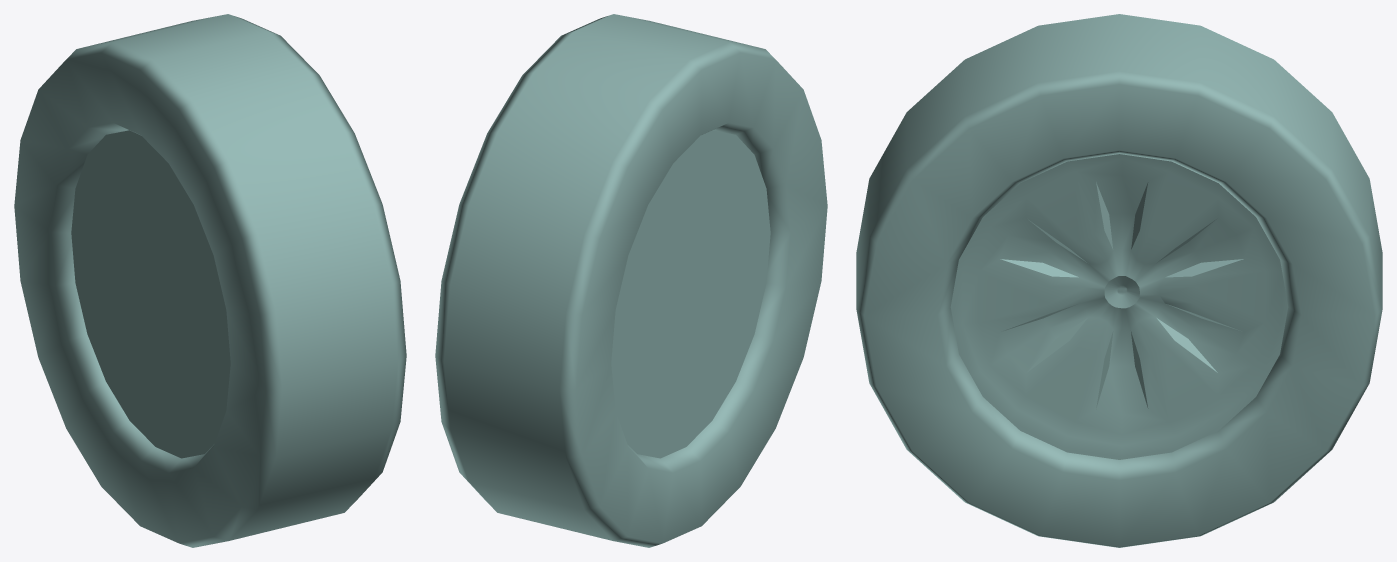
Rendered from Car_Wheel_01.fbx.
3 views of the same model, side by side, from view 1: azimuth 30°, elevation 25°; view 2: azimuth 150°, elevation 25°; view 3: azimuth 270°, elevation 25° (orthographic).
Parts seen in each view (by area): view 1: Car_Wheel_01; view 2: Car_Wheel_01; view 3: Car_Wheel_01.
Boxes of the visible parts, x1,y1,x2,y2 form: Car_Wheel_01: (14,14,406,547); Car_Wheel_01: (435,14,827,547); Car_Wheel_01: (856,14,1382,547).
Bounding box in the file's own units: 24.16 × 77.11 × 77.11.
